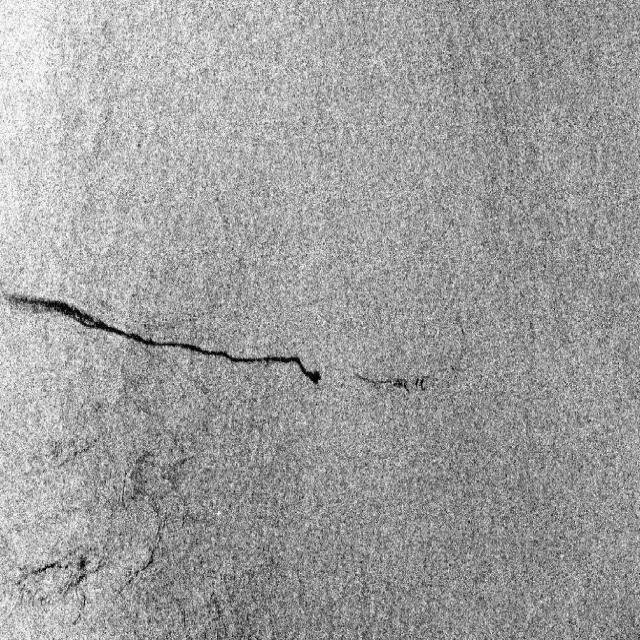look-alike: (110, 437, 194, 610), (10, 542, 105, 630)
oil-spill: (5, 282, 325, 393), (351, 347, 438, 410)
